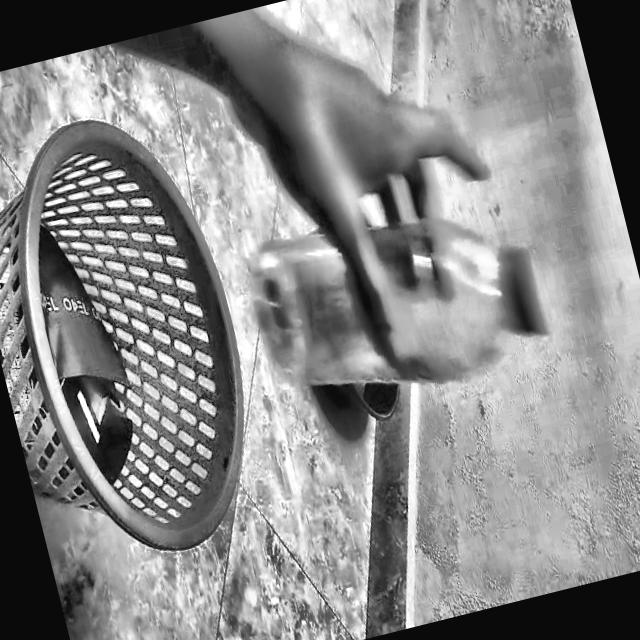Dustbin: (0, 95, 290, 604)
Empty: (0, 108, 274, 571)
Plastic-Bottle: (228, 170, 562, 458)
